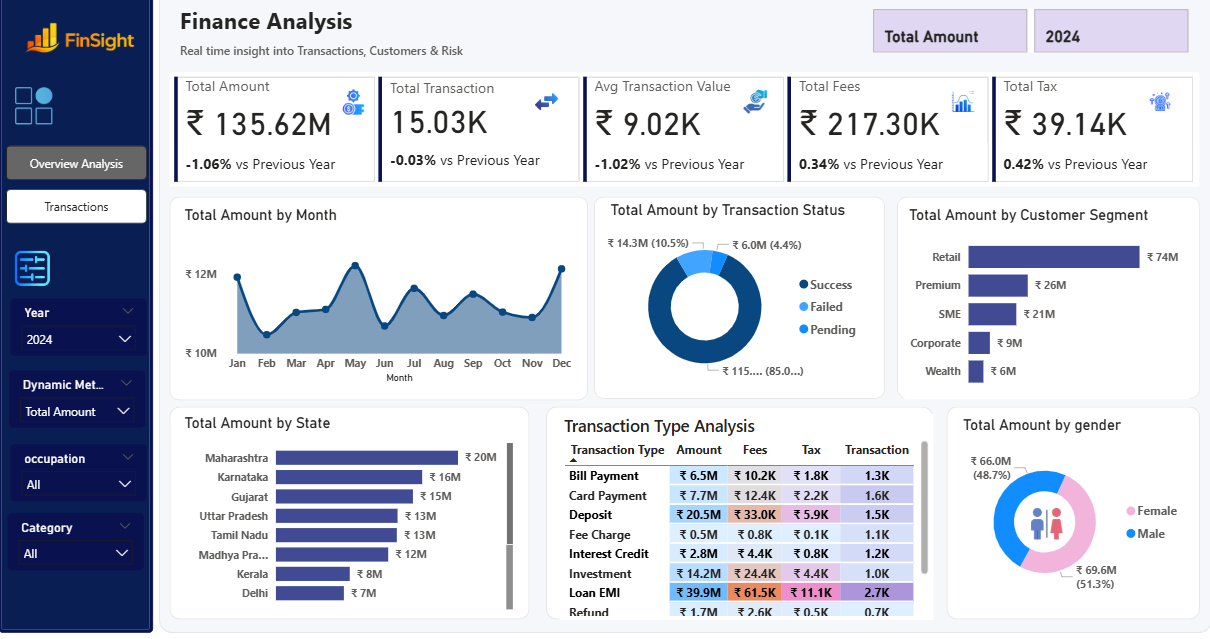

Layout of this report page (visuals, bound fields, positions):
{"tool":"powerbi","page":{"name":"Overview Analysis","canvas":[1390,750],"ordinal":0},"visuals":[{"type":"shape","box":[5.1,11.9,174.5,726.9],"z":0},{"type":"shape","box":[186.4,1.7,1189.4,737],"z":1000},{"type":"image","box":[25.4,30.5,145.7,72.9],"z":2000},{"type":"shape","box":[198.2,245.7,472.7,230.4],"z":3000},{"type":"shape","box":[677.7,245.7,328.7,228.7],"z":4000},{"type":"shape","box":[1020,245.7,342.3,228.7],"z":5000},{"type":"shape","box":[198.2,482.9,406.6,240.6],"z":6000},{"type":"shape","box":[623.5,482.9,437.1,240.6],"z":7000},{"type":"shape","box":[1075.9,482.9,286.3,240.6],"z":8000},{"type":"cardVisual","fields":{"Data":["finance_transactions.Dashboard Title"]},"box":[199.1,12.3,373.5,90.3],"z":9000},{"type":"slicer","fields":{"Values":["Calender Table.year"]},"box":[18.6,360.9,154.2,64.4],"z":10000},{"type":"cardVisual","fields":{"Data":["finance_transactions.Total Amount","finance_transactions.Total_Transaction","finance_transactions.Avg Transaction Value","finance_transactions.Total Fees","finance_transactions.Total Tax"]},"box":[199.1,104.7,1163.6,129.3],"z":11000},{"type":"image","box":[386.3,118.6,39,40.7],"z":12000},{"type":"image","box":[604.9,118.6,38,40.7],"z":13000},{"type":"image","box":[840.4,118.6,38,40.7],"z":14000},{"type":"image","box":[1075.9,118.6,37.3,40.7],"z":15000},{"type":"image","box":[1297.8,118.6,38,40.7],"z":16000},{"type":"slicer","fields":{"Values":["Dynamic Metric.Dynamic Metric"]},"box":[16.9,442.2,154.2,64.4],"z":17000},{"type":"areaChart","fields":{"Y":["finance_transactions.Total Amount"],"Category":["Calender Table.Month"]},"box":[210.1,255.8,449,205],"z":18000},{"type":"cardVisual","fields":{"Data":["finance_transactions.Selected Dynamic Measure","finance_transactions.Selected Year"]},"box":[987.8,28.8,367.7,59.3],"z":19000},{"type":"donutChart","fields":{"Y":["finance_transactions.Total Amount"],"Category":["finance_transactions.transaction_status"]},"box":[691.3,250.8,296.5,218.6],"z":20000},{"type":"barChart","fields":{"Y":["finance_transactions.Total Amount"],"Category":["customers.customer_segment"]},"box":[1028.5,255.8,321.9,218.6],"z":21000},{"type":"barChart","fields":{"Y":["finance_transactions.Total Amount"],"Category":["customers.state"]},"box":[210.1,491.4,381.2,225.3],"z":22000},{"type":"tableEx","title":"Transaction Type Analysis","fields":{"Values":["finance_transactions.transaction_type","finance_transactions.Total Amount","finance_transactions.Total Fees","finance_transactions.Total Tax","finance_transactions.Total Transaction"]},"box":[638.8,491.4,421.9,232.1],"z":23000},{"type":"donutChart","fields":{"Y":["finance_transactions.Total Amount"],"Category":["customers.gender"]},"box":[1089.4,493,260.9,220.3],"z":24000},{"type":"image","box":[1162.3,589.6,54.2,50.8],"z":25000},{"type":"slicer","fields":{"Values":["customers.occupation"]},"box":[18.6,525.2,154.2,64.4],"z":26000},{"type":"slicer","fields":{"Values":["finance_transactions.merchant_category"]},"box":[15.2,603.2,154.2,64.4],"z":27000},{"type":"pageNavigator","box":[13.6,188.1,159.3,89.8],"z":28000},{"type":"image","box":[15.2,294.8,55.9,64.4],"z":29000},{"type":"image","box":[18.6,116.9,52.5,52.5],"z":30000}]}

Visuals, with their boxes on the page's 1390x750 design canvas (x1, y1, x2, y2). These are canvas units, not pixel positions in the 1210x639 screenshot, which may show the page scaled, cropped or inside an application window:
shape: bbox=(5, 12, 180, 739)
shape: bbox=(186, 2, 1376, 739)
image: bbox=(25, 30, 171, 103)
shape: bbox=(198, 246, 671, 476)
shape: bbox=(678, 246, 1006, 474)
shape: bbox=(1020, 246, 1362, 474)
shape: bbox=(198, 483, 605, 724)
shape: bbox=(624, 483, 1061, 724)
shape: bbox=(1076, 483, 1362, 724)
cardVisual - finance_transactions.Dashboard Title: bbox=(199, 12, 573, 103)
slicer - Calender Table.year: bbox=(19, 361, 173, 425)
cardVisual - finance_transactions.Total Amount x finance_transactions.Total_Transaction: bbox=(199, 105, 1363, 234)
image: bbox=(386, 119, 425, 159)
image: bbox=(605, 119, 643, 159)
image: bbox=(840, 119, 878, 159)
image: bbox=(1076, 119, 1113, 159)
image: bbox=(1298, 119, 1336, 159)
slicer - Dynamic Metric.Dynamic Metric: bbox=(17, 442, 171, 507)
areaChart - finance_transactions.Total Amount x Calender Table.Month: bbox=(210, 256, 659, 461)
cardVisual - finance_transactions.Selected Dynamic Measure x finance_transactions.Selected Year: bbox=(988, 29, 1356, 88)
donutChart - finance_transactions.Total Amount x finance_transactions.transaction_status: bbox=(691, 251, 988, 469)
barChart - finance_transactions.Total Amount x customers.customer_segment: bbox=(1028, 256, 1350, 474)
barChart - finance_transactions.Total Amount x customers.state: bbox=(210, 491, 591, 717)
"Transaction Type Analysis" tableEx: bbox=(639, 491, 1061, 724)
donutChart - finance_transactions.Total Amount x customers.gender: bbox=(1089, 493, 1350, 713)
image: bbox=(1162, 590, 1216, 640)
slicer - customers.occupation: bbox=(19, 525, 173, 590)
slicer - finance_transactions.merchant_category: bbox=(15, 603, 169, 668)
pageNavigator: bbox=(14, 188, 173, 278)
image: bbox=(15, 295, 71, 359)
image: bbox=(19, 117, 71, 169)
